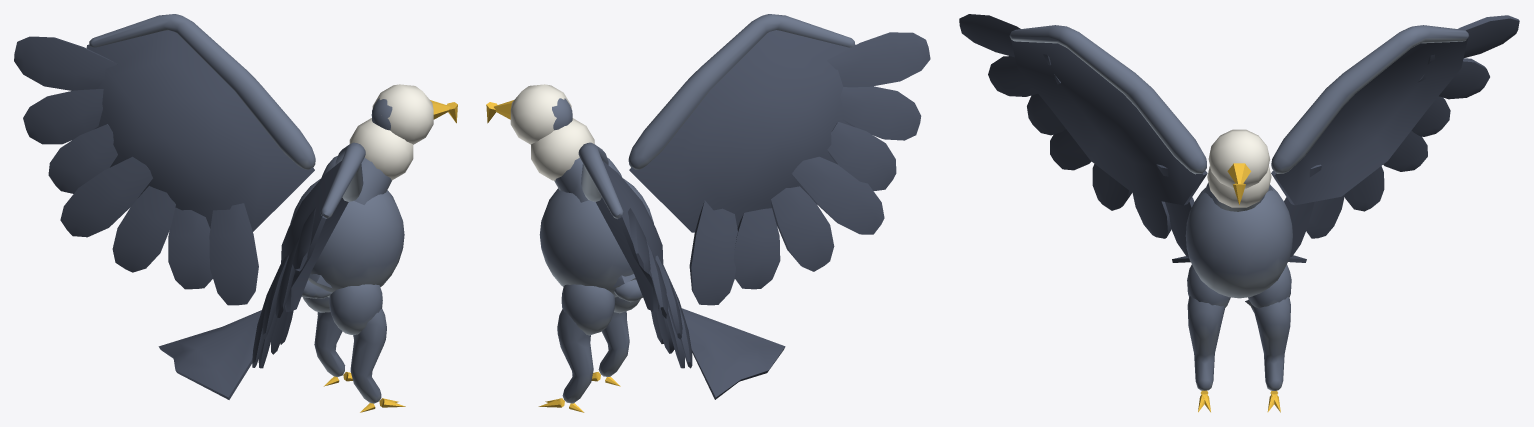
The model's file is roc.glb.
The picture shows the model from 3 angles, left to right: view 1: azimuth 30°, elevation 25°; view 2: azimuth 150°, elevation 25°; view 3: azimuth 270°, elevation 25°; orthographic projection. The views are drawn at different scales.
Visible parts, largest first — view 1: roc.001; view 2: roc.001; view 3: roc.001.
Part boxes in pixels (x1,y1,x2,y2): roc.001: (14, 14, 457, 412); roc.001: (486, 14, 930, 412); roc.001: (959, 14, 1519, 412).
Bounding box in the file's own units: 2.54 × 2.7 × 4.18.
